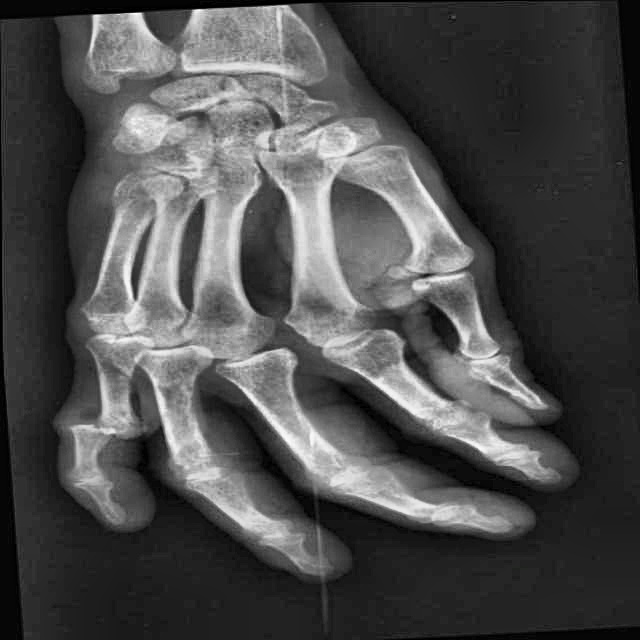Transverse: (53, 390, 149, 463)
